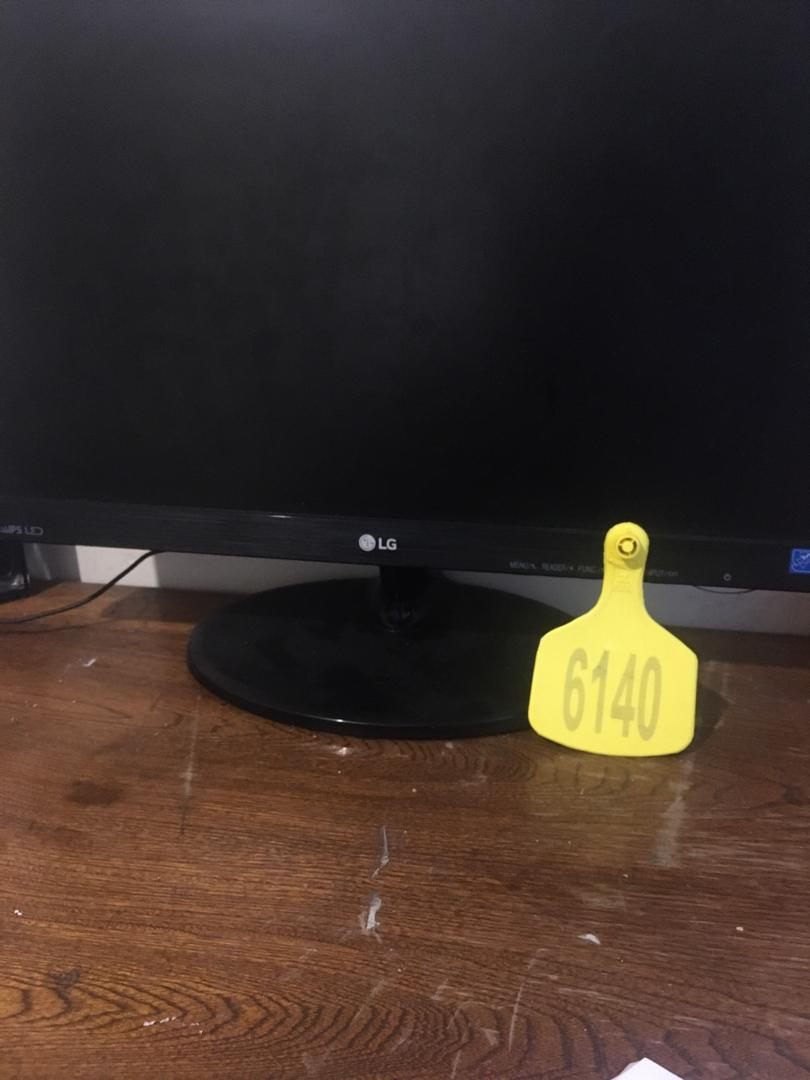digit: (560, 641, 667, 742)
